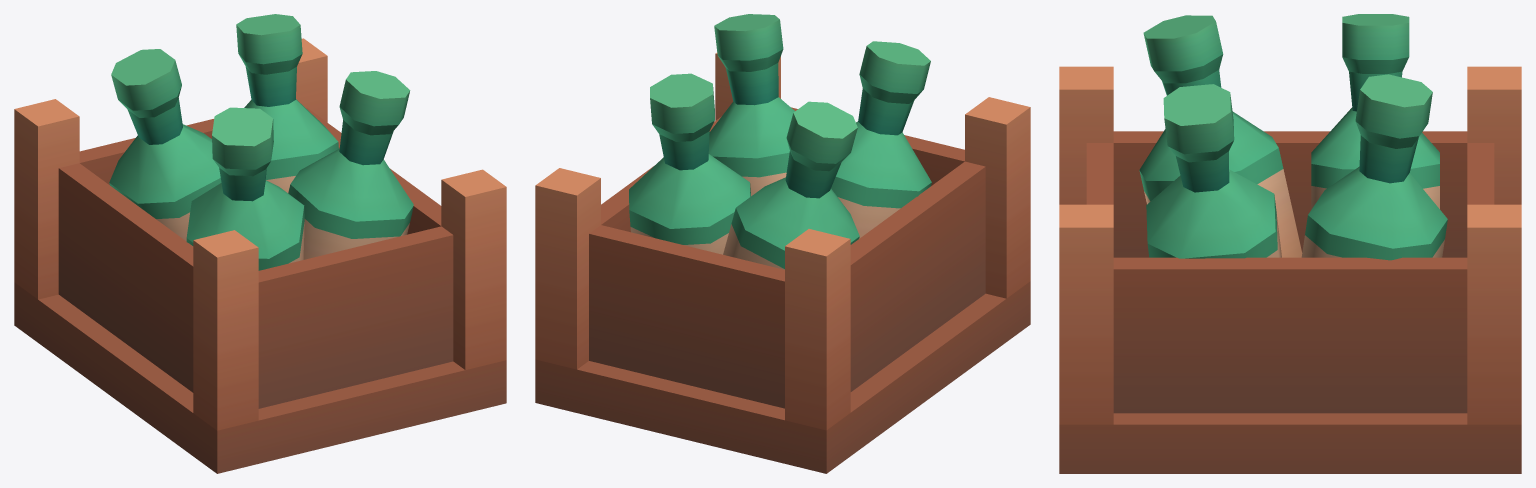
The model's file is crate-bottles.glb.
3 renders of one model, left to right at view 1: azimuth 30°, elevation 25°; view 2: azimuth 150°, elevation 25°; view 3: azimuth 270°, elevation 25°, orthographic. The views are drawn at different scales.
Visible parts, largest first — view 1: crate-bottles; view 2: crate-bottles; view 3: crate-bottles.
Part boxes in pixels (left/top/right/bottom): crate-bottles: left=14, top=14, right=506, bottom=473; crate-bottles: left=535, top=14, right=1030, bottom=473; crate-bottles: left=1059, top=14, right=1521, bottom=473.
Bounding box in the file's own units: 1.08 × 1.06 × 1.31.
Materials: 1 (1 with a texture image).
